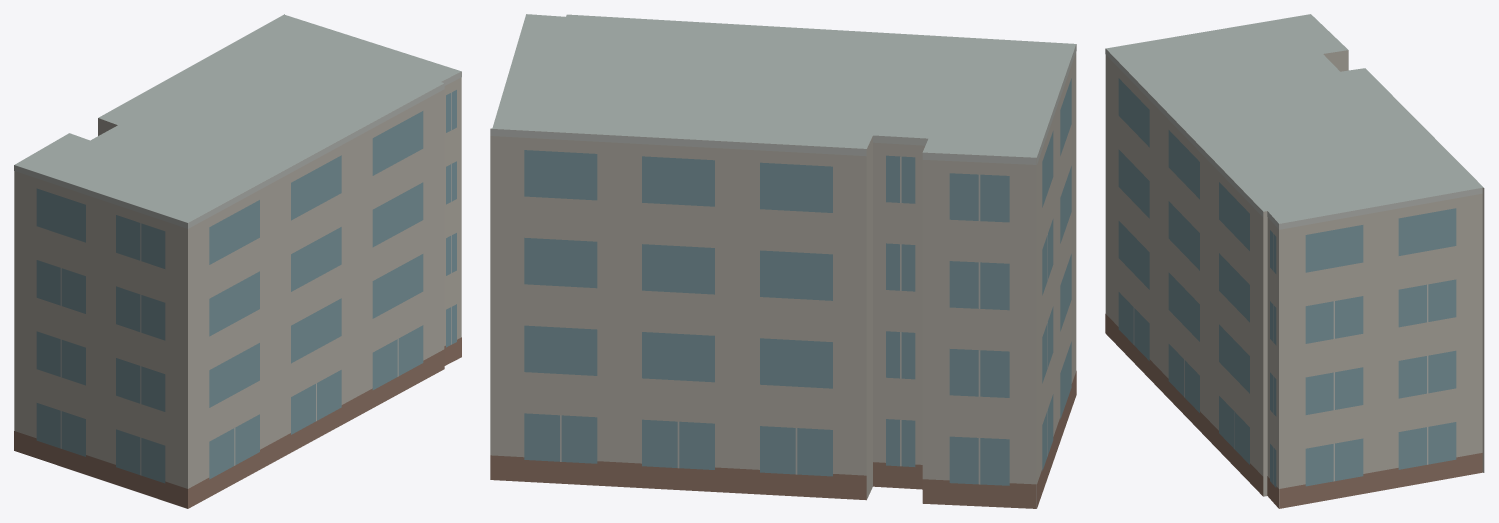
The model's file is survey-upis-32603430.glb.
3 renders of one model, left to right at view 1: azimuth 30°, elevation 25°; view 2: azimuth 150°, elevation 25°; view 3: azimuth 270°, elevation 25°, orthographic. The views are drawn at different scales.
Parts seen in each view (by area): view 1: survey-upis-32603430.tmp; view 2: survey-upis-32603430.tmp; view 3: survey-upis-32603430.tmp.
Part boxes in pixels (x1=…): survey-upis-32603430.tmp: x1=14, y1=14, x2=461, y2=508; survey-upis-32603430.tmp: x1=490, y1=14, x2=1076, y2=508; survey-upis-32603430.tmp: x1=1105, y1=14, x2=1484, y2=508.
Size of the model in its own units: 18.66 by 11.8 by 14.23.
